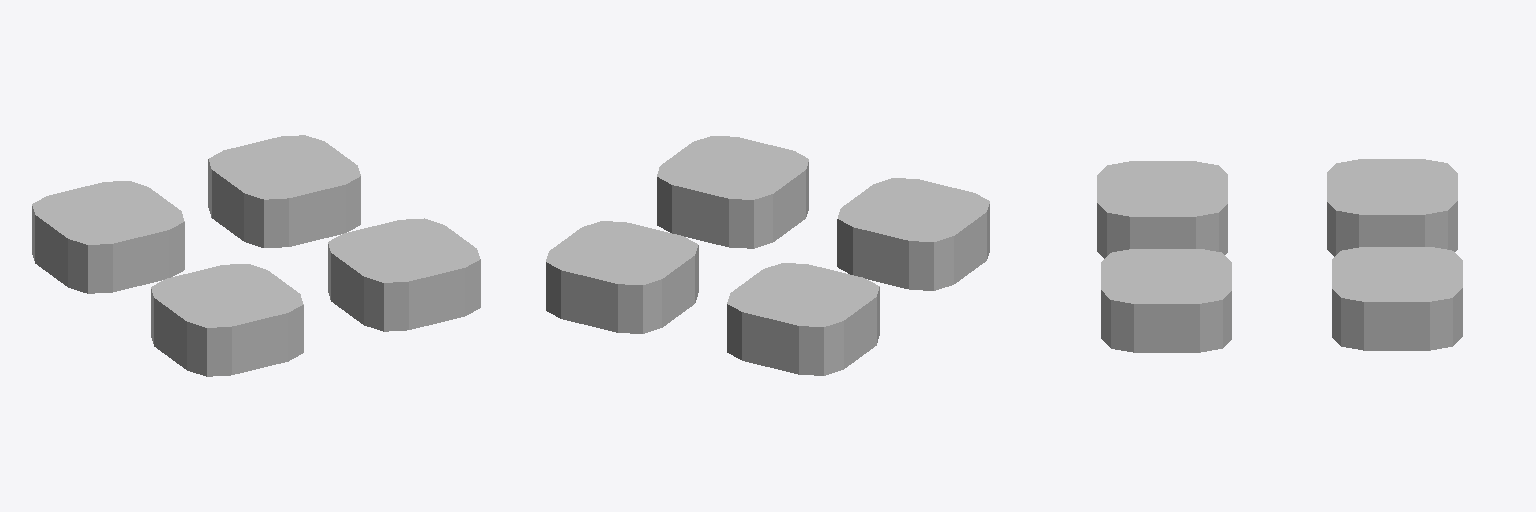
File: fuelTankcollider.obj
3 renders of one model, left to right at view 1: azimuth 30°, elevation 25°; view 2: azimuth 150°, elevation 25°; view 3: azimuth 270°, elevation 25°, orthographic.
Visible parts, largest first — view 1: fuel_tanks_collider; view 2: fuel_tanks_collider; view 3: fuel_tanks_collider.
Boxes of the visible parts, box(x1,y1,x2,y2) form: fuel_tanks_collider: box(32, 135, 480, 376); fuel_tanks_collider: box(546, 136, 989, 375); fuel_tanks_collider: box(1097, 159, 1462, 352).
Bounding box in the file's own units: 22.87 × 3.59 × 24.39.